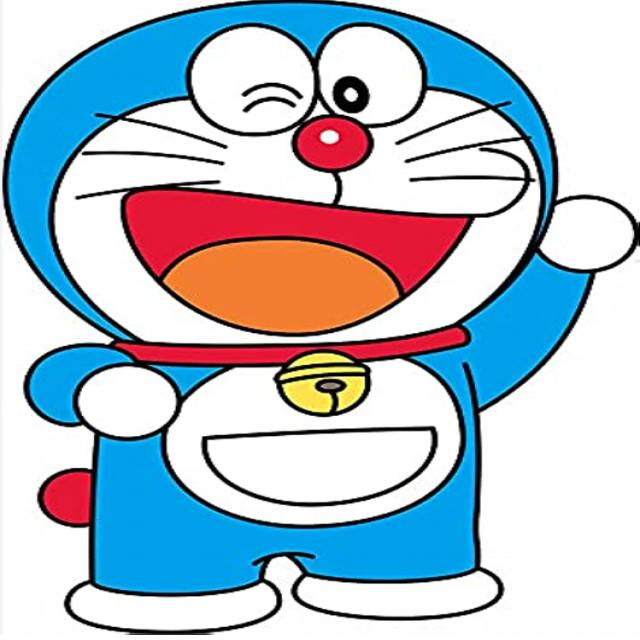Ameng: (1, 1, 606, 373)
